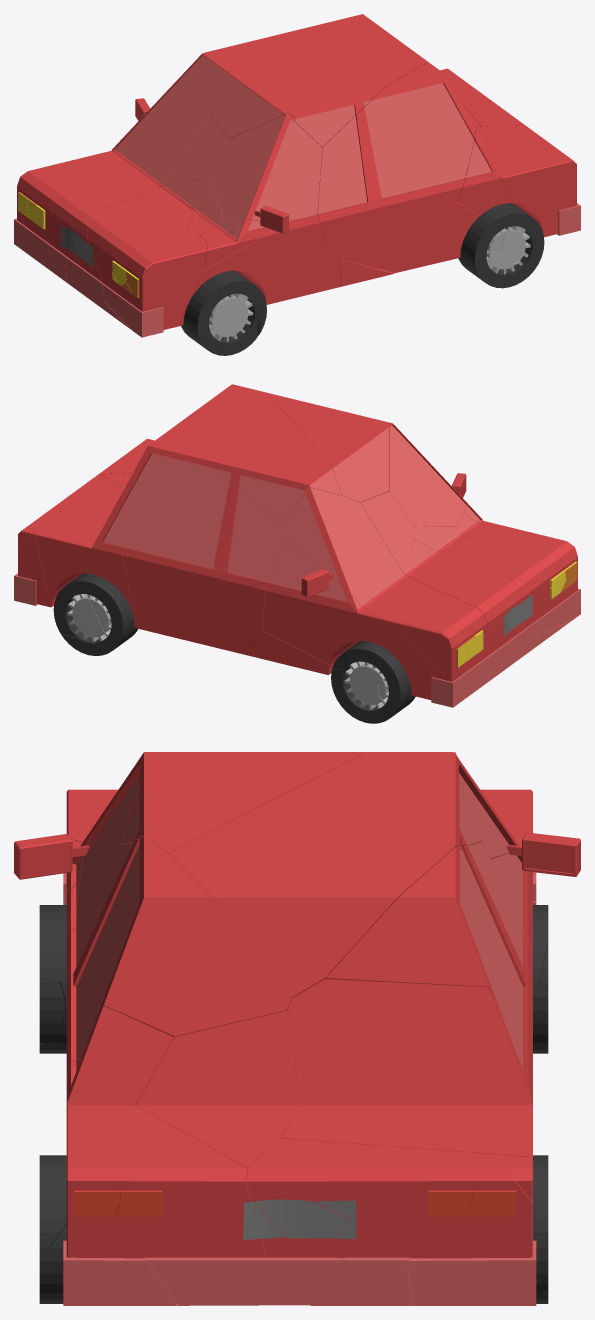
The model's file is Car One Red Shatter.fbx.
The picture shows the model from 3 angles, top to bottom: view 1: azimuth 30°, elevation 25°; view 2: azimuth 150°, elevation 25°; view 3: azimuth 270°, elevation 25°; orthographic projection. The views are drawn at different scales.
Parts seen in each view (by area): view 1: Car Body.002_cell.021, Car Body.002_cell.001, Car Body.002_cell.030, Car Body.002_cell.003, Car Body.002_cell.004, Car Body.002_cell.026, Car Body.002_cell.024, Car Body.002_cell.010, Car Body.002_cell.020, Car Body.002_cell.028, Car Body.002_cell.017, Car Body.002_cell.005 (+22 smaller); view 2: Car Body.002_cell.016, Car Body.002_cell.001, Car Body.002_cell.030, Car Body.002_cell.013, Car Body.002_cell.014, Car Body.002_cell.004, Car Body.002_cell.010, Car Body.002_cell.026, Car Body.002_cell.003, Car Body.002_cell.028, Car Body.002_cell.029, Tire.009_cell.003 (+18 smaller); view 3: Car Body.002_cell.030, Car Body.002_cell.014, Car Body.002_cell.021, Car Body.002_cell.024, Car Body.002_cell.029, Car Body.002_cell.016, Car Body.002_cell.008, Car Body.002_cell.004, Back Bumper.002_cell.002, Back Bumper.002_cell.001, Back Bumper.002_cell, Back Bumper.002_cell.003 (+20 smaller).
Boxes of the visible parts, x1,y1,x2,y2 form: Car Body.002_cell.021: (317, 62, 475, 272); Car Body.002_cell.001: (17, 53, 208, 236); Car Body.002_cell.030: (202, 25, 427, 92); Car Body.002_cell.003: (209, 113, 322, 222); Car Body.002_cell.004: (208, 71, 390, 147); Car Body.002_cell.026: (87, 222, 206, 329); Car Body.002_cell.024: (474, 125, 576, 237); Car Body.002_cell.010: (39, 181, 197, 282); Car Body.002_cell.020: (192, 218, 324, 296); Car Body.002_cell.028: (51, 114, 229, 218); Car Body.002_cell.017: (261, 241, 340, 304); Car Body.002_cell.005: (395, 203, 480, 272); Car Body.002_cell.016: (122, 434, 284, 653); Car Body.002_cell.001: (283, 485, 487, 675); Car Body.002_cell.030: (163, 397, 341, 524); Car Body.002_cell.013: (263, 539, 445, 699); Car Body.002_cell.014: (35, 489, 136, 627); Car Body.002_cell.004: (274, 400, 390, 502); Car Body.002_cell.010: (405, 539, 538, 664); Car Body.002_cell.026: (483, 528, 577, 618); Car Body.002_cell.003: (389, 422, 467, 526); Car Body.002_cell.028: (360, 491, 505, 628); Car Body.002_cell.029: (18, 474, 123, 607); Tire.009_cell.003: (53, 573, 126, 650); Car Body.002_cell.030: (169, 752, 481, 997); Car Body.002_cell.014: (280, 979, 532, 1156); Car Body.002_cell.021: (66, 836, 291, 1068); Car Body.002_cell.024: (66, 1006, 247, 1258); Car Body.002_cell.029: (246, 1138, 532, 1258); Car Body.002_cell.016: (325, 841, 532, 1076); Car Body.002_cell.008: (135, 1010, 301, 1257); Car Body.002_cell.004: (121, 752, 365, 854); Back Bumper.002_cell.002: (144, 1257, 343, 1305); Back Bumper.002_cell.001: (407, 1240, 536, 1305); Back Bumper.002_cell: (63, 1240, 177, 1305); Back Bumper.002_cell.003: (310, 1257, 412, 1305).
Bounding box in the file's own units: 357 × 154 × 215.
